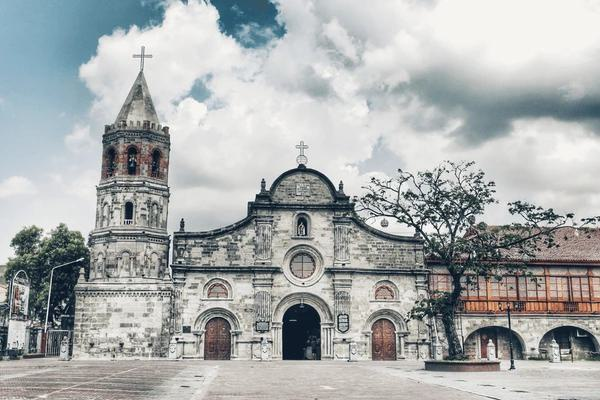barasoain_church_malolos_bulacan: (69, 43, 433, 364)
